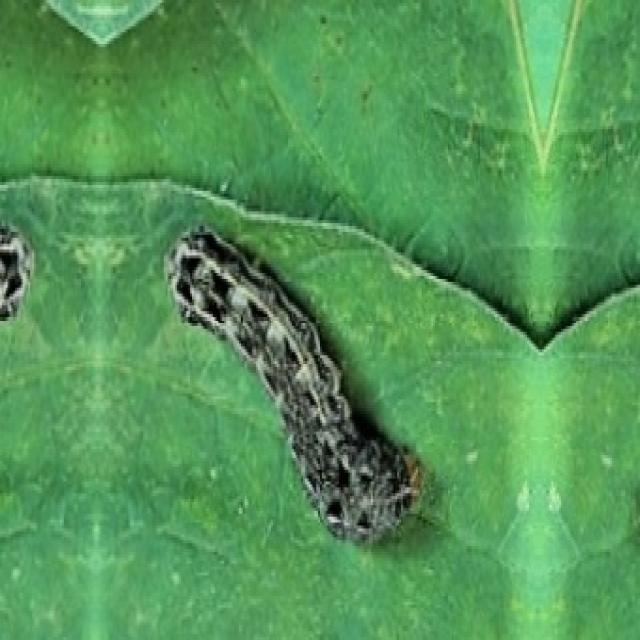armyworm: (162, 220, 425, 546)
